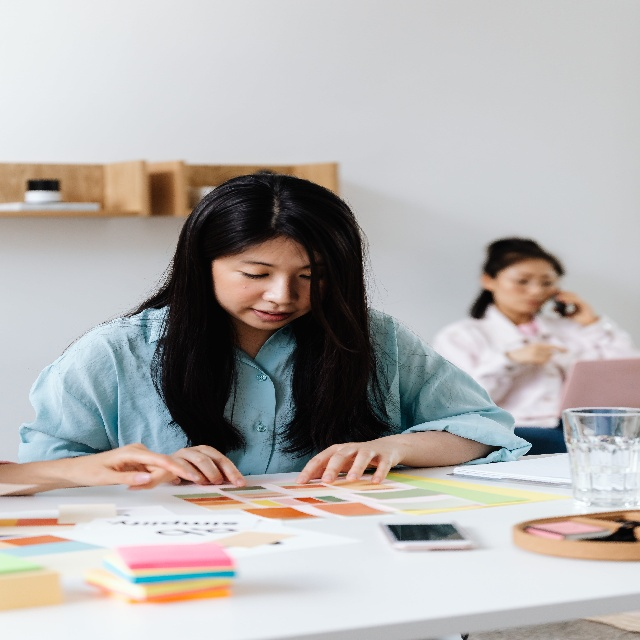Sin_guantes: (292, 433, 406, 490), (72, 441, 203, 490), (169, 443, 247, 488), (554, 289, 595, 326), (508, 343, 568, 366)
